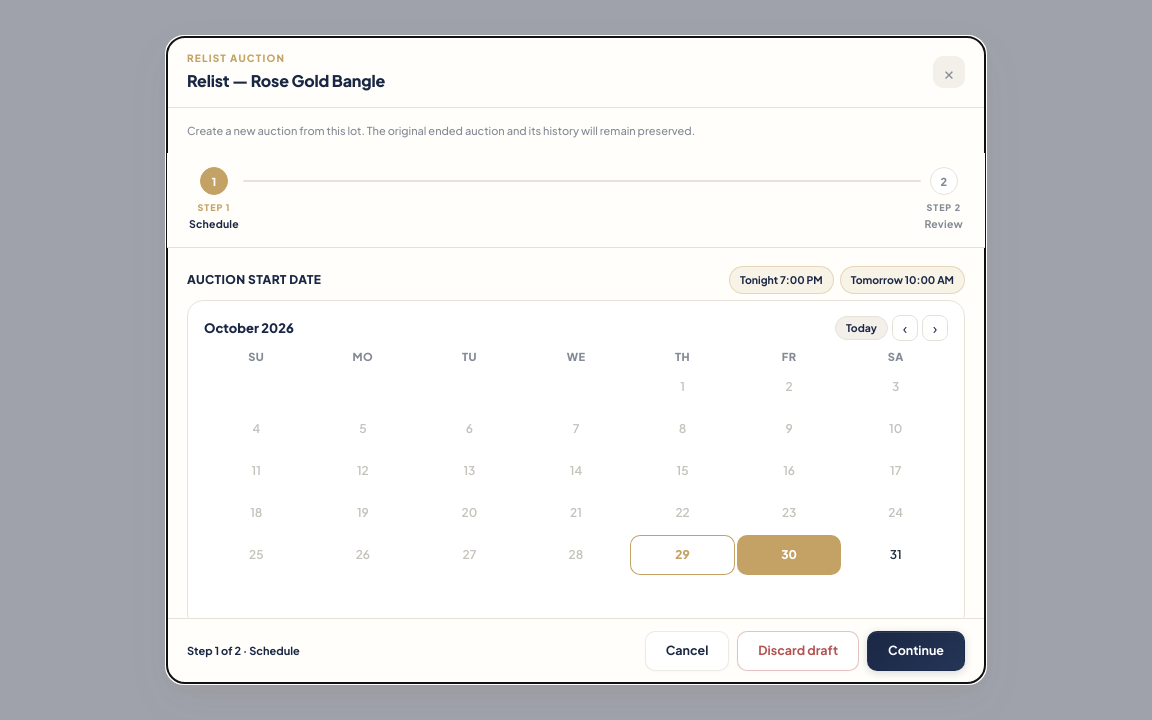
Test case: Continue with valid schedule moves to Review
Click the button "Continue" at x=916, y=651, box [867,631,965,671]
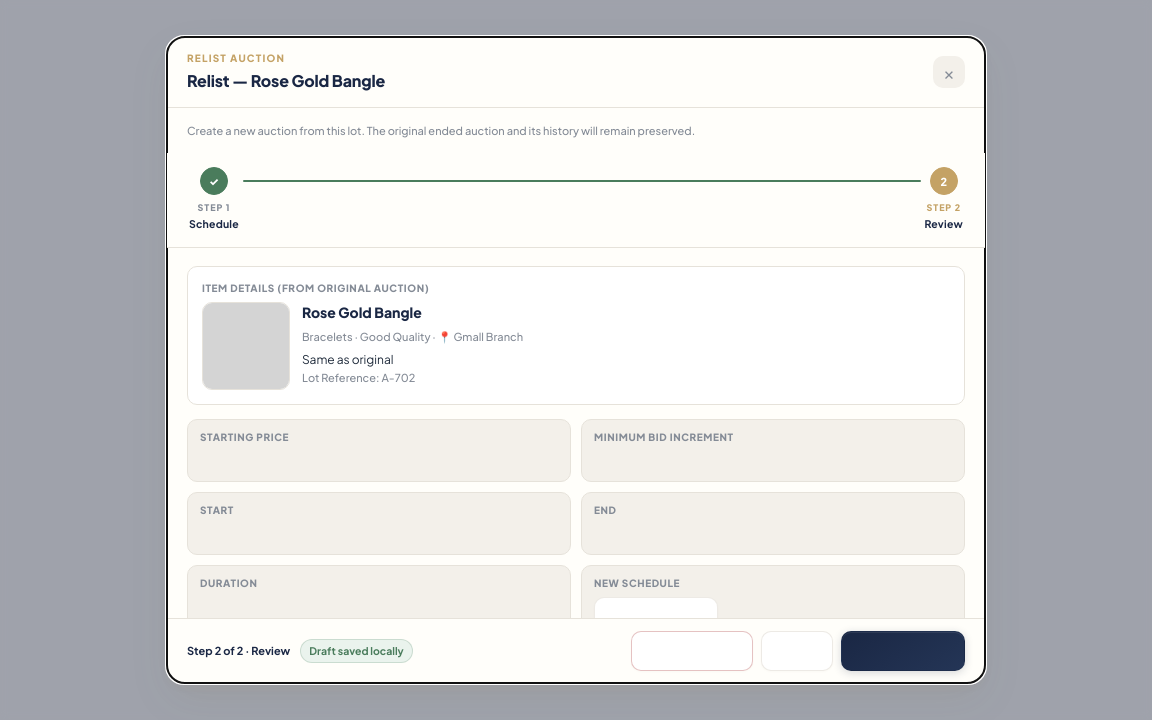
Expected: the text "Minimum Bid Increment" is shown, [594,431,734,443]
